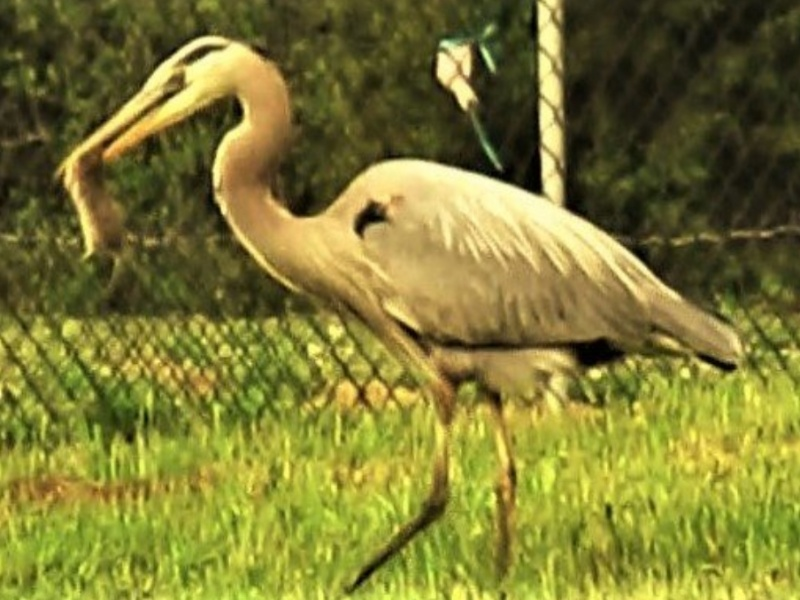heron: (51, 33, 746, 590)
